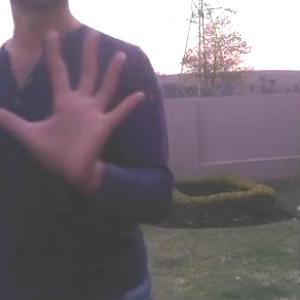follow_hand: (1, 22, 153, 178)
